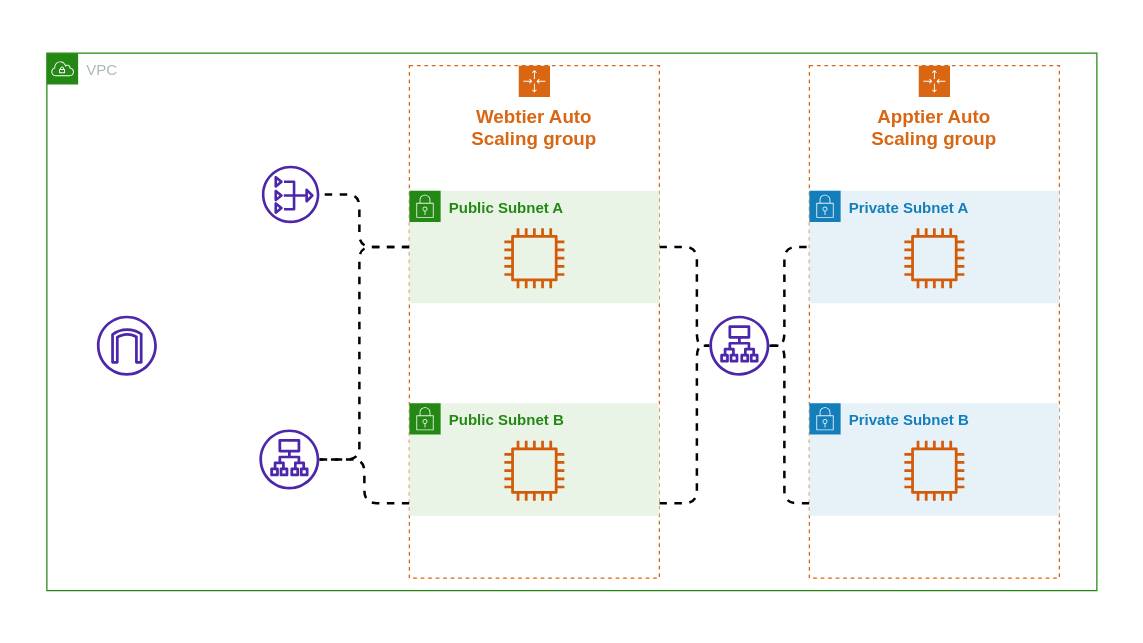
This 1143x643 diagram has some shape labels left out. The shapes that lost their labels are listed below. From the top down, each one's centre as x and y in pixels, then its label:
(x=290, y=193): NAT Gateway
(x=126, y=345): Internet Gateway
(x=739, y=345): Internal ALB
(x=289, y=459): Internet-facing ALB
